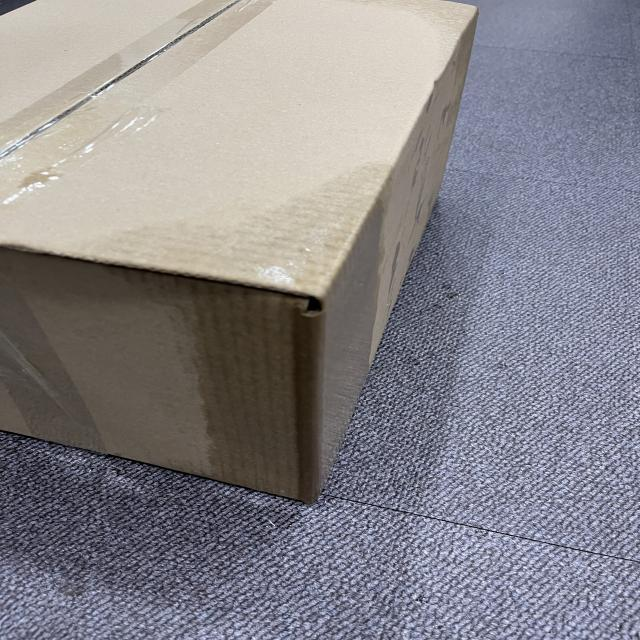wet: (158, 197, 380, 497)
